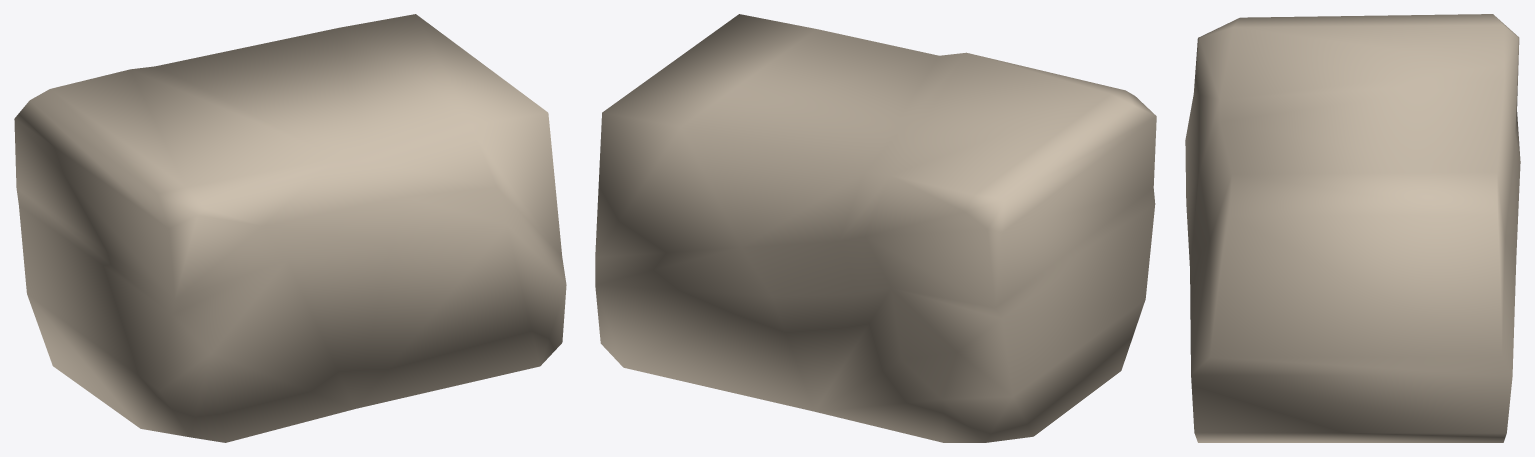
File: Prop_Brick1.gltf
3 views of the same model, side by side, from view 1: azimuth 30°, elevation 25°; view 2: azimuth 150°, elevation 25°; view 3: azimuth 270°, elevation 25° (orthographic). The views are drawn at different scales.
Parts seen in each view (by area): view 1: Prop_Brick1; view 2: Prop_Brick1; view 3: Prop_Brick1.
Boxes of the visible parts, x1,y1,x2,y2 form: Prop_Brick1: (14, 14, 566, 442); Prop_Brick1: (595, 14, 1156, 442); Prop_Brick1: (1185, 14, 1520, 442).
Bounding box in the file's own units: 0.3456 × 0.208 × 0.2502.
